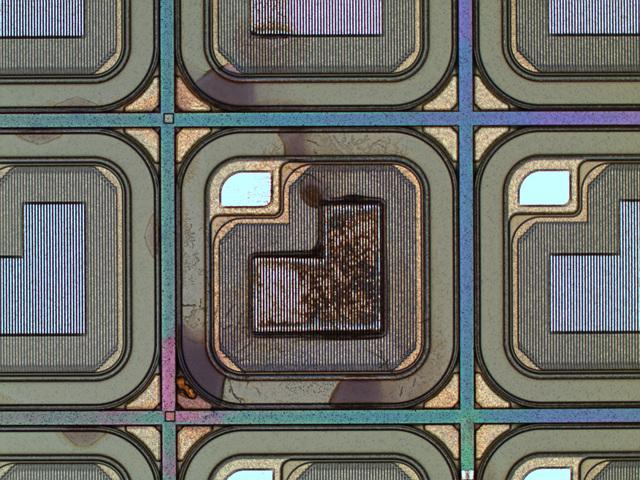SEZ BURNT: (12, 19, 401, 452)
